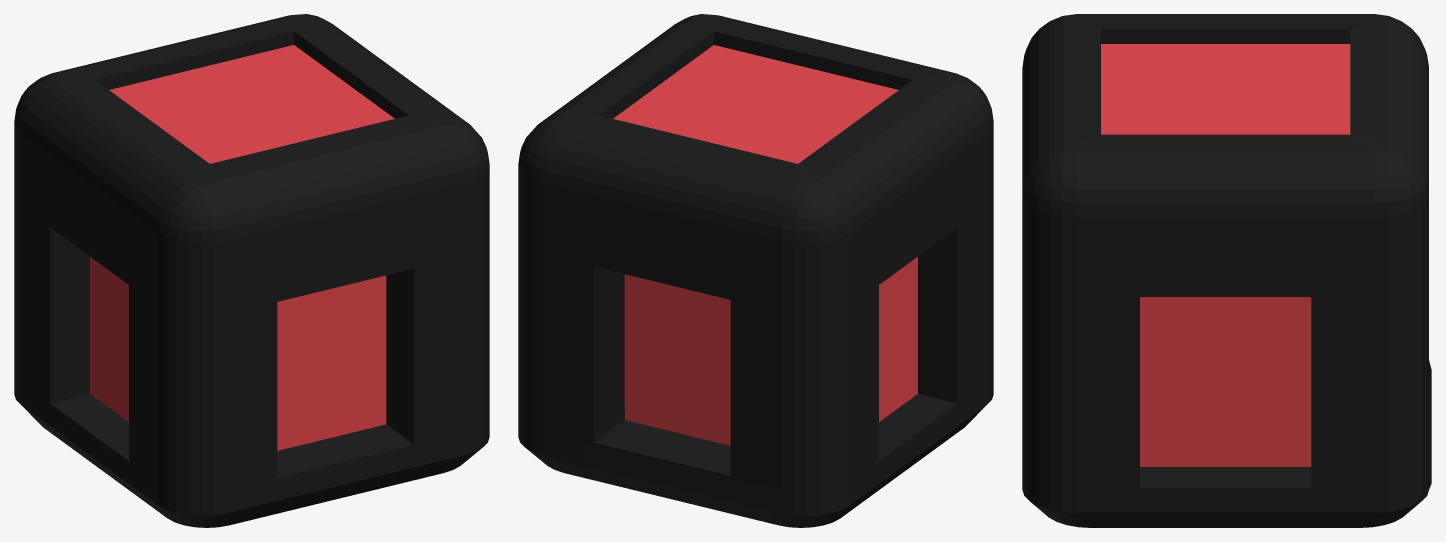
File: Sellerfbx.fbx
The picture shows the model from 3 angles, left to right: view 1: azimuth 30°, elevation 25°; view 2: azimuth 150°, elevation 25°; view 3: azimuth 270°, elevation 25°; orthographic projection. The views are drawn at different scales.
Visible parts, largest first — view 1: Cube.001; view 2: Cube.001; view 3: Cube.001.
Boxes of the visible parts, box(x1,y1,x2,y2) form: Cube.001: box(14, 14, 489, 527); Cube.001: box(518, 14, 993, 527); Cube.001: box(1022, 14, 1431, 527).
Size of the model in its own units: 2000 by 2000 by 2012.
